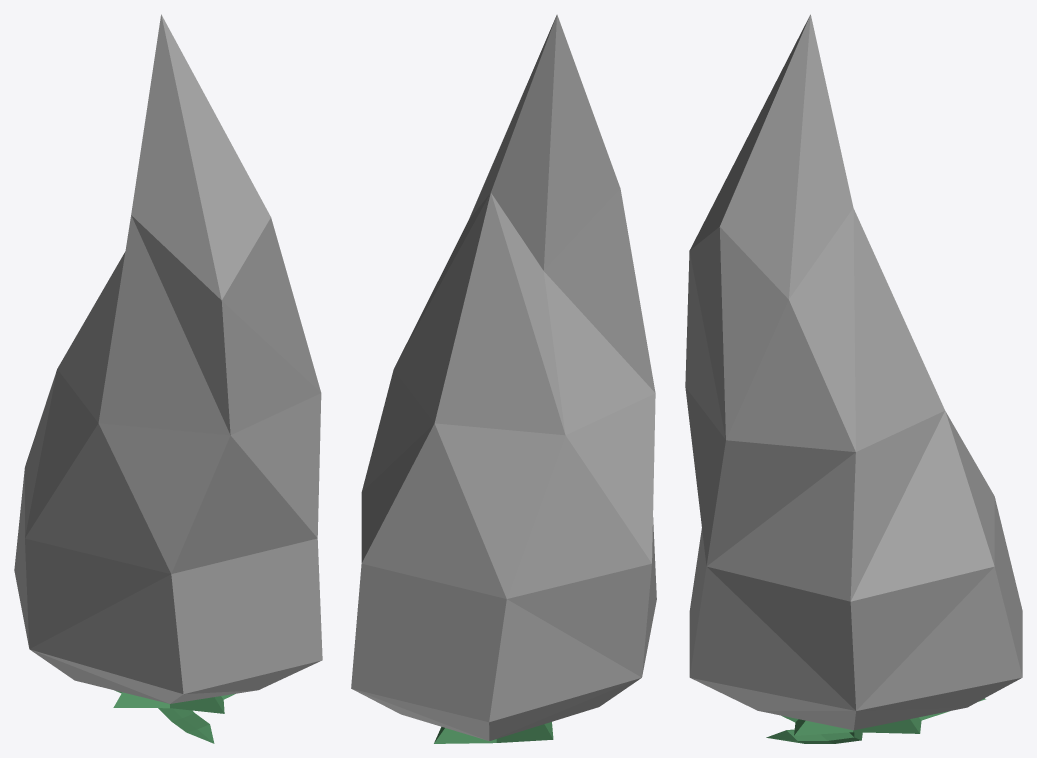
File: pepperoni.fbx
The picture shows the model from 3 angles, left to right: view 1: azimuth 30°, elevation 25°; view 2: azimuth 150°, elevation 25°; view 3: azimuth 270°, elevation 25°; orthographic projection.
Parts seen in each view (by area): view 1: pCylinder2; view 2: pCylinder2; view 3: pCylinder2.
Boxes of the visible parts, x1,y1,x2,y2 form: pCylinder2: [14, 14, 322, 743]; pCylinder2: [351, 14, 656, 743]; pCylinder2: [685, 14, 1022, 743].
Bounding box in the file's own units: 0.00757 × 0.0179 × 0.00768.
